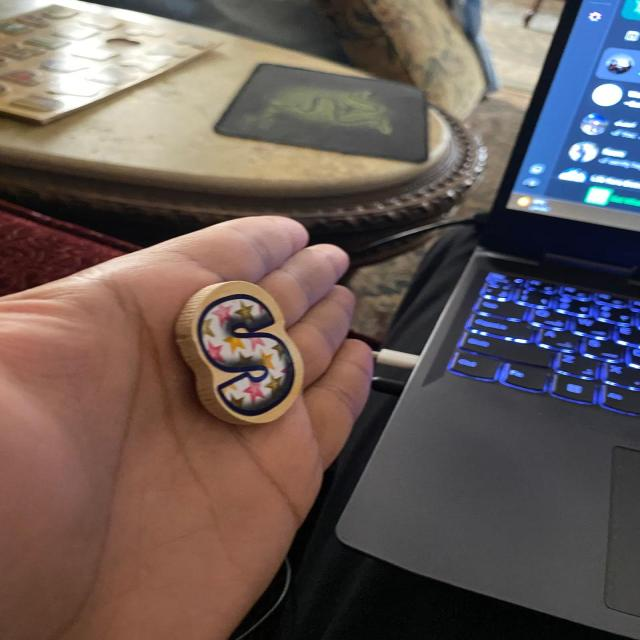S: (176, 281, 303, 425)
